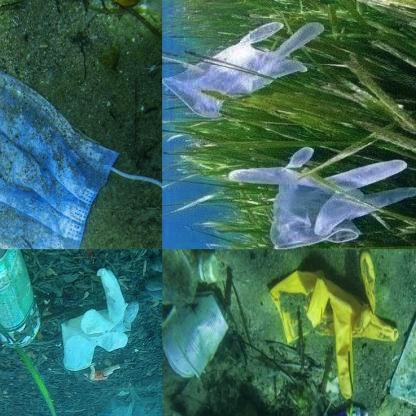Mask: (0, 20, 162, 249)
glove: (226, 140, 416, 249), (162, 18, 335, 126), (274, 250, 400, 398), (52, 249, 160, 389)
